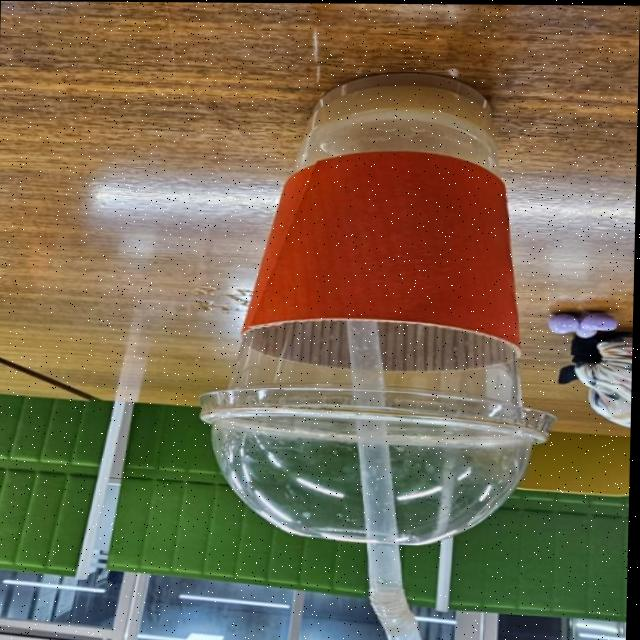cup: (202, 73, 554, 441)
